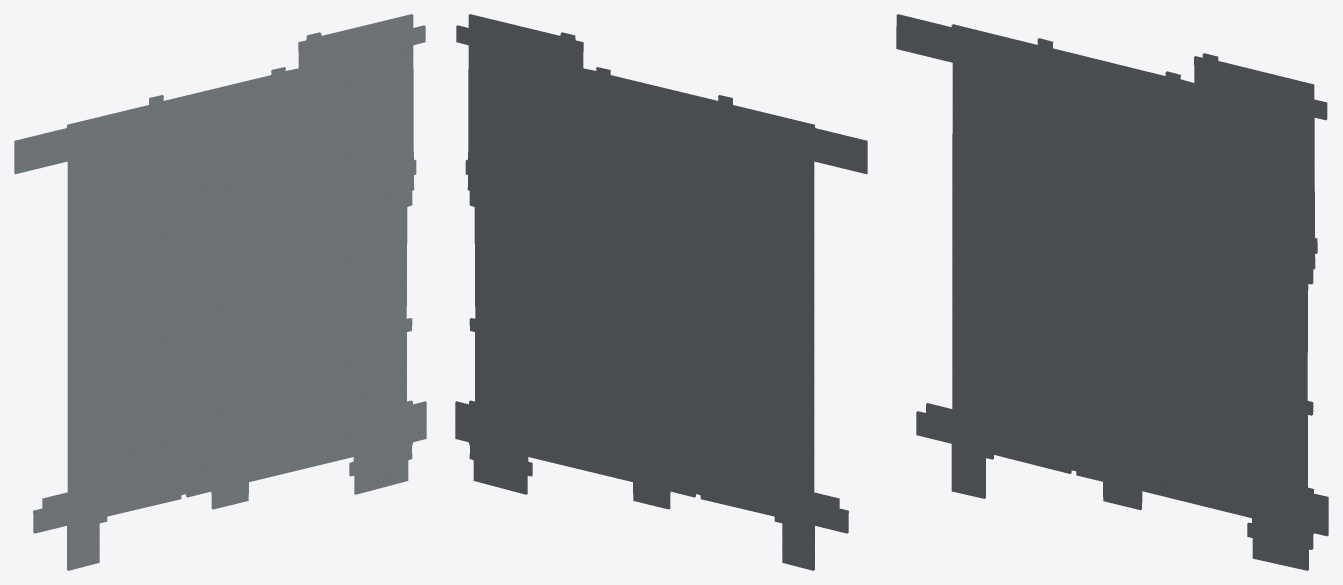
File: floor_2.obj
The picture shows the model from 3 angles, left to right: view 1: azimuth 30°, elevation 25°; view 2: azimuth 150°, elevation 25°; view 3: azimuth 330°, elevation 25°; orthographic projection. The views are drawn at different scales.
Parts seen in each view (by area): view 1: floor_2; view 2: floor_2; view 3: floor_2.
Part boxes in pixels (x1,y1,x2,y2): floor_2: [14, 14, 426, 570]; floor_2: [455, 14, 867, 570]; floor_2: [896, 14, 1328, 570].
Bounding box in the file's own units: 24.61 × 27.21 × 0.1.
1 material, 1 textured.
